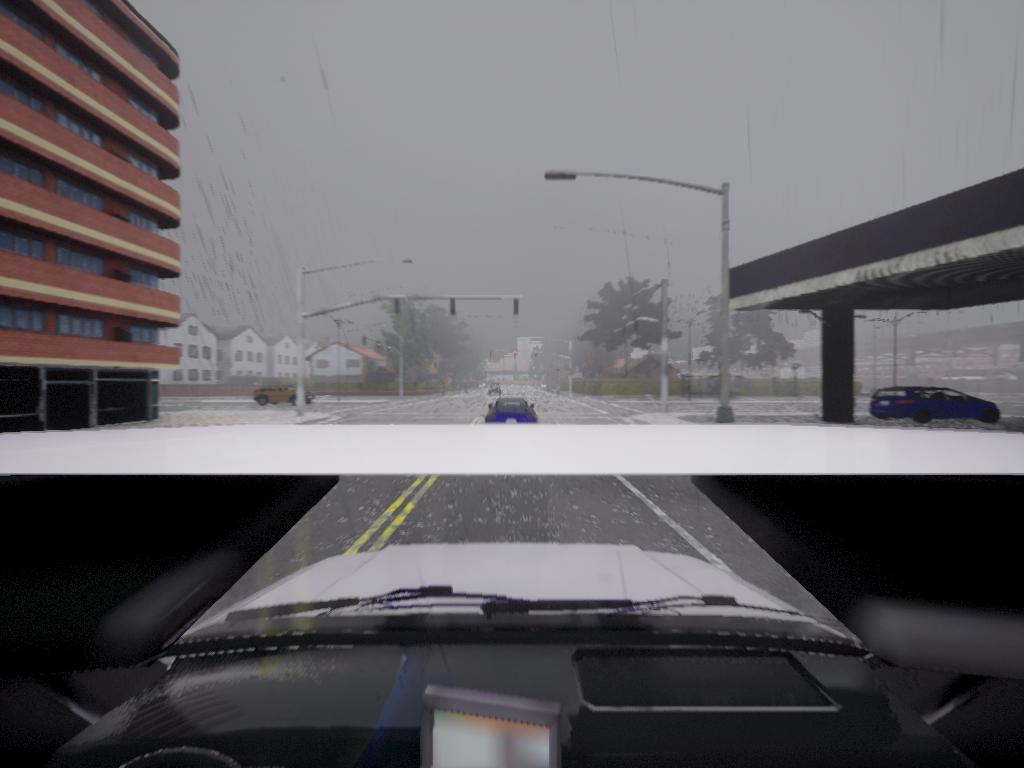traffic_light: (450, 299, 458, 317), (394, 299, 401, 315), (514, 299, 520, 317), (610, 333, 615, 345), (622, 330, 627, 341), (635, 321, 639, 333), (490, 351, 494, 359), (514, 352, 518, 360), (535, 351, 538, 360)
